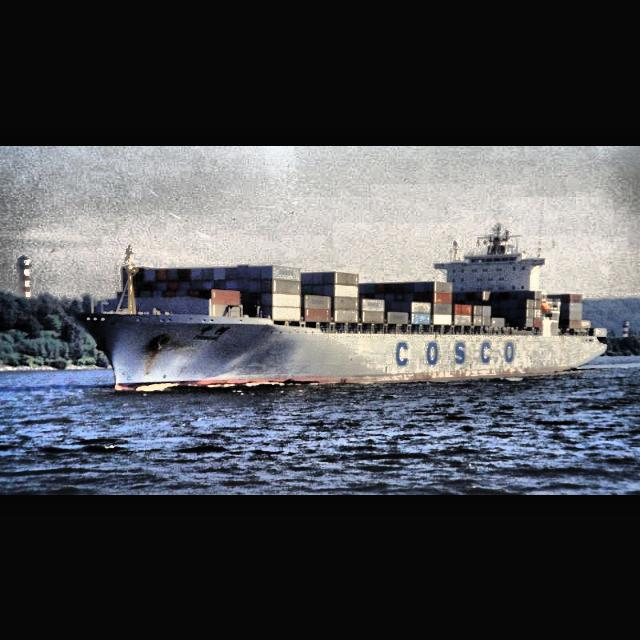container: (72, 222, 608, 392)
